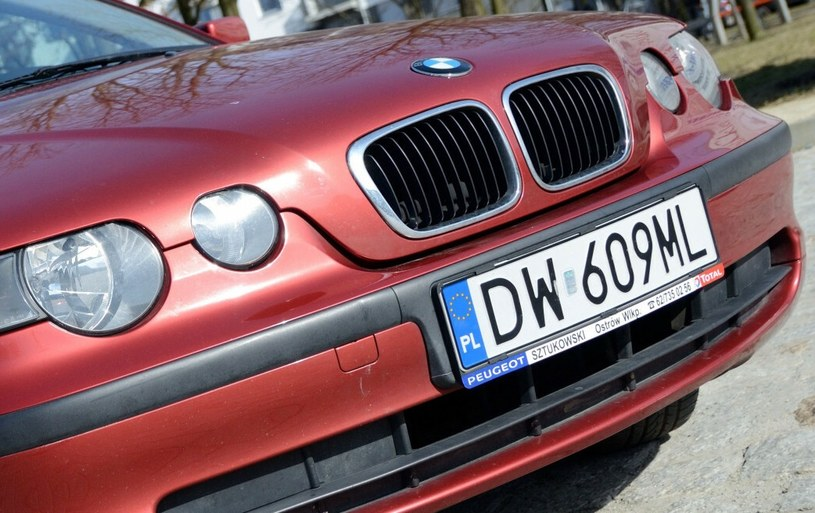number_plate: (430, 185, 726, 381)
